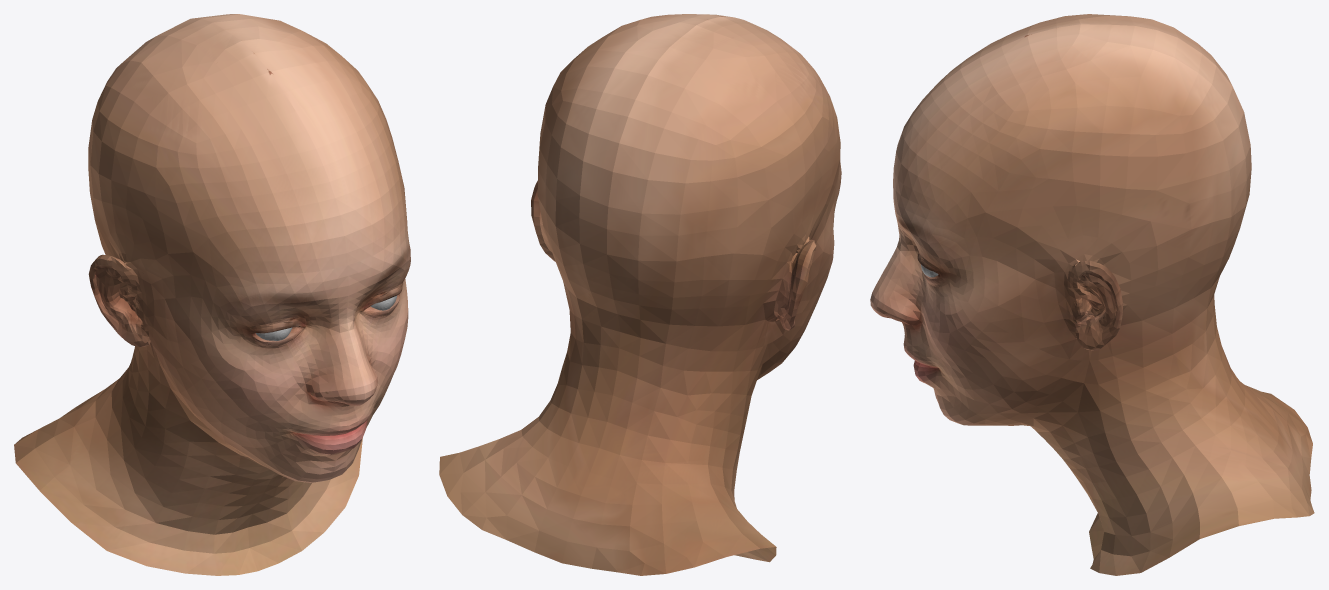
Rendered from dhmod.obj.
3 renders of one model, left to right at view 1: azimuth 30°, elevation 25°; view 2: azimuth 150°, elevation 25°; view 3: azimuth 270°, elevation 25°, orthographic. The views are drawn at different scales.
Visible parts, largest first — view 1: Head; view 2: Head; view 3: Head.
Part boxes in pixels (bbox=[...]): Head: bbox=[14, 14, 410, 575]; Head: bbox=[439, 14, 841, 575]; Head: bbox=[870, 14, 1314, 575].
Bounding box in the file's own units: 0.2048 × 0.3227 × 0.2479.
2 materials, 1 textured.
